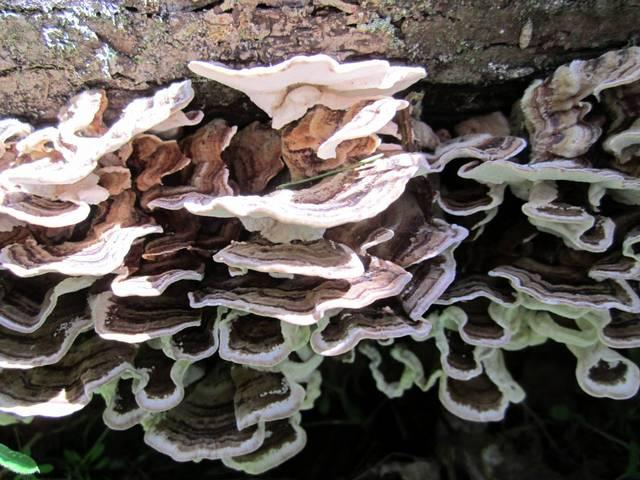Non-edible Mushroom: (0, 43, 639, 475), (186, 51, 427, 130)
